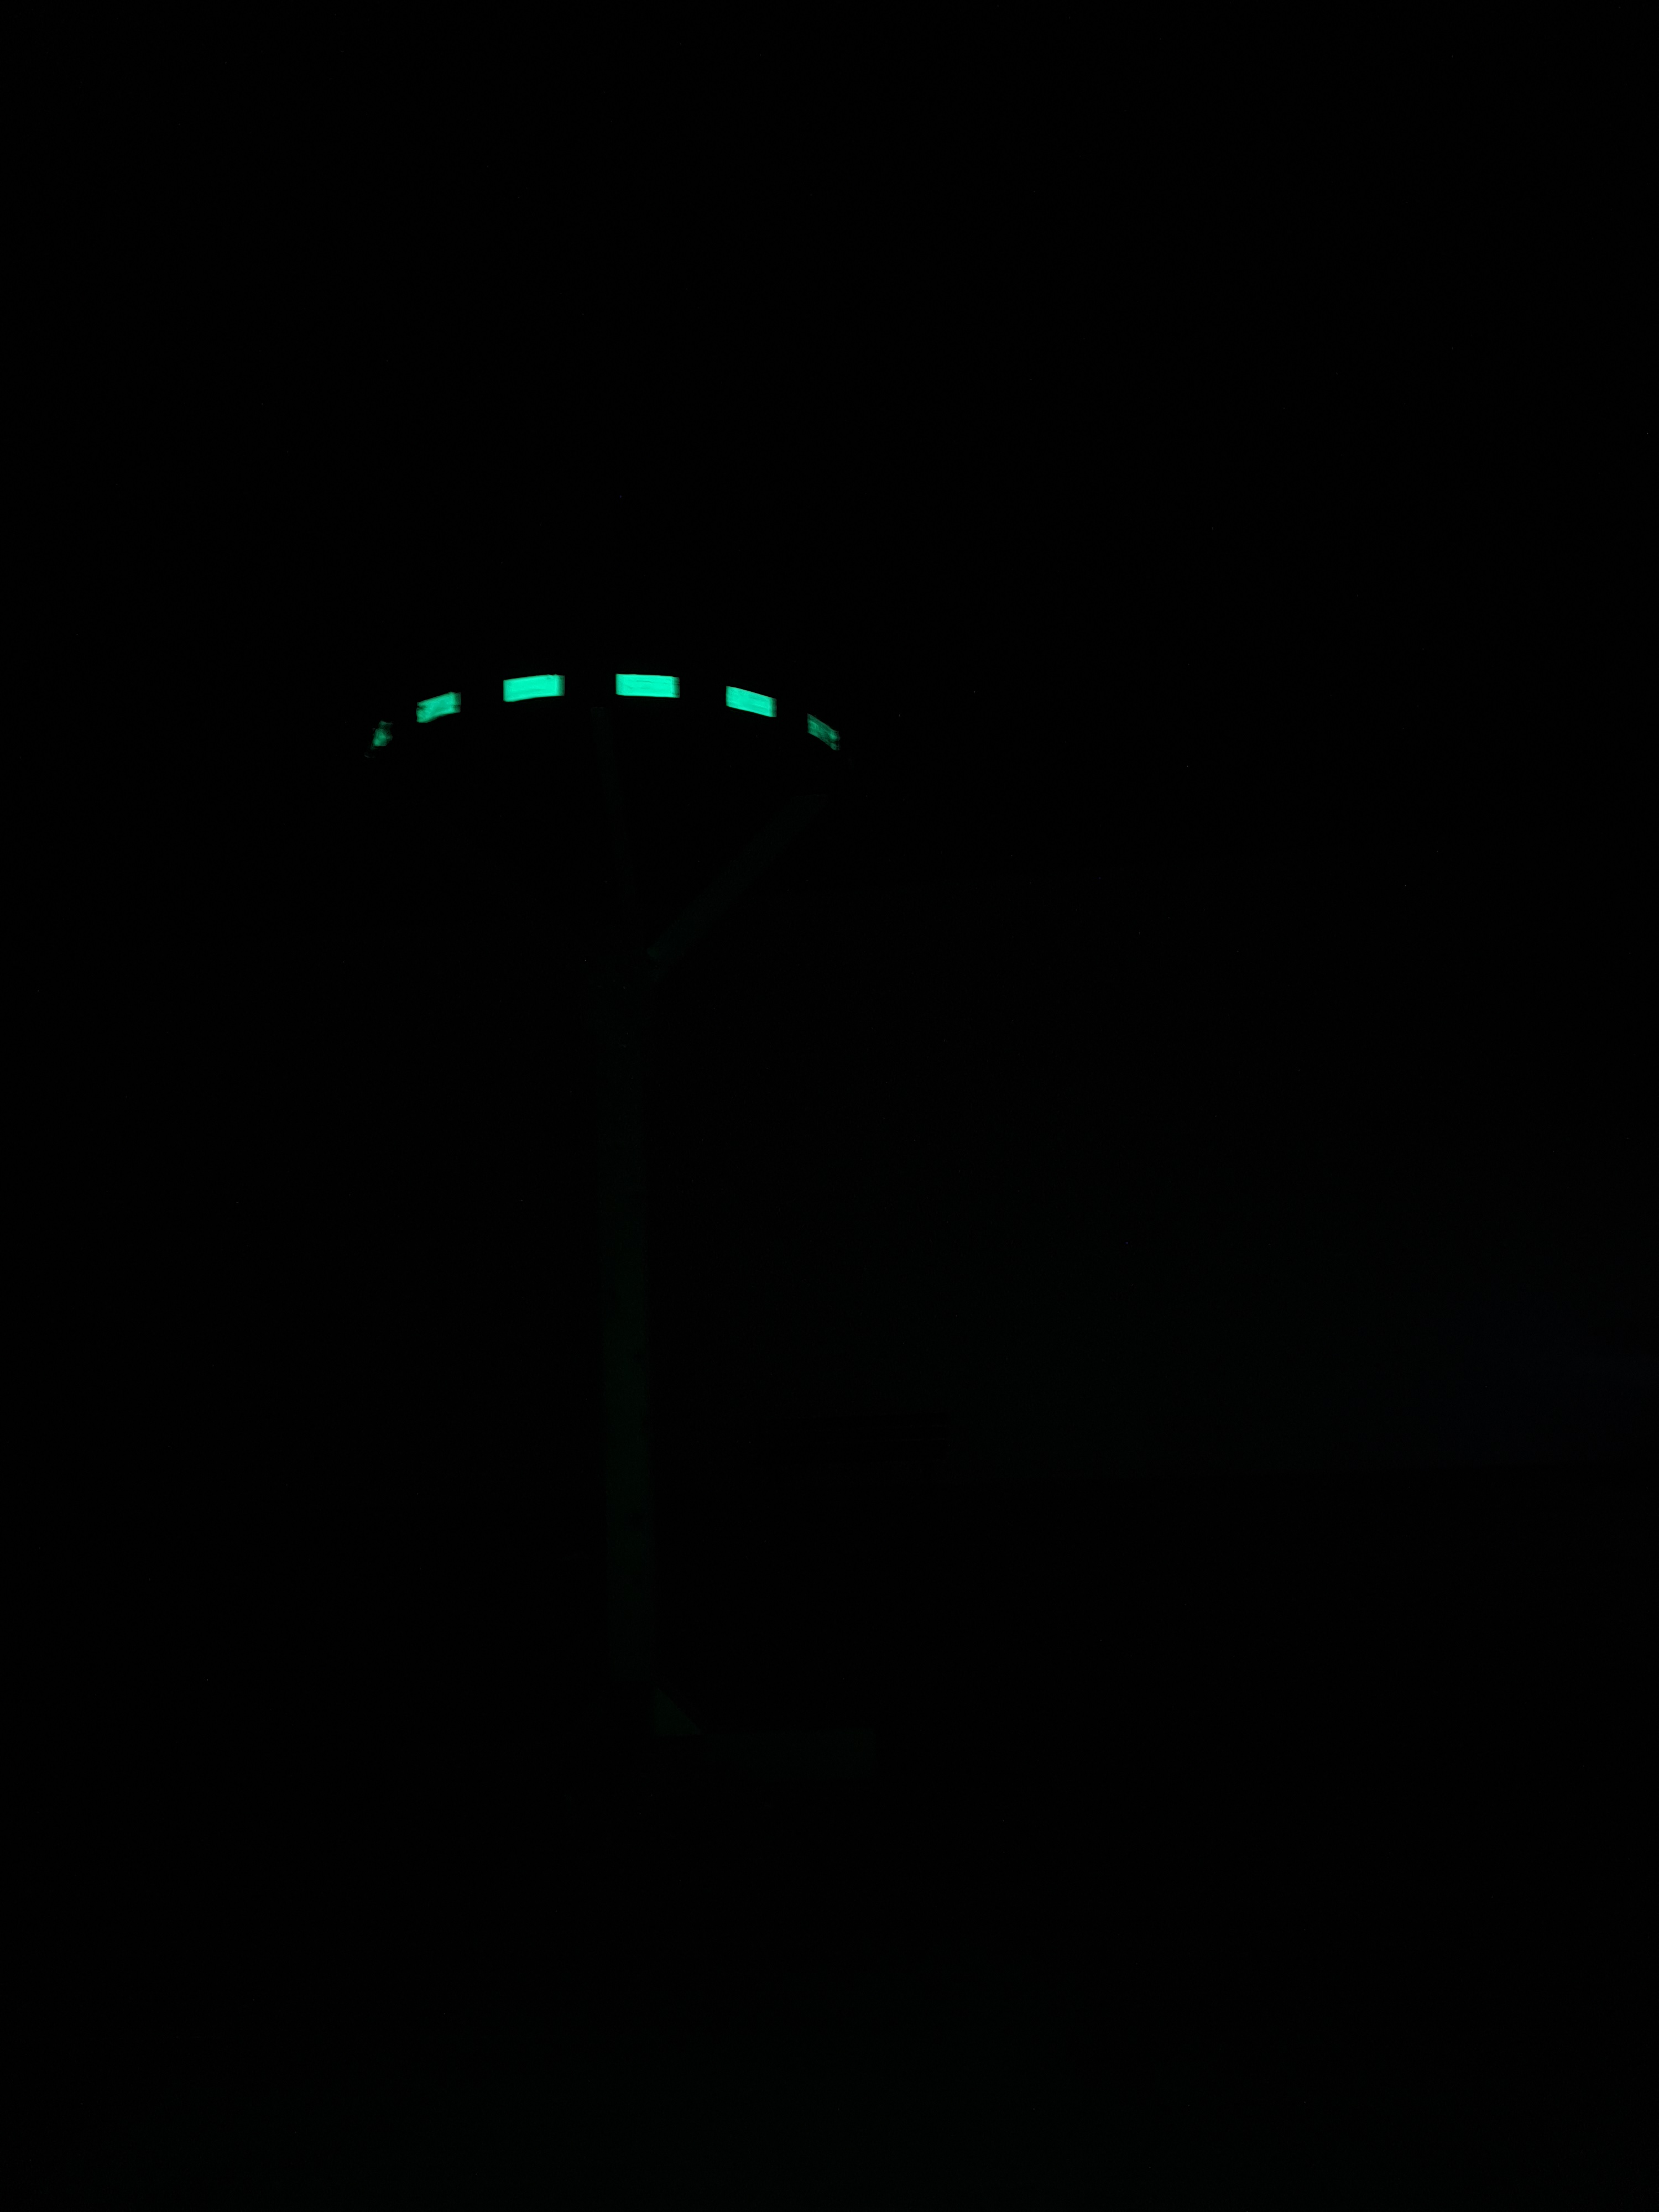hoop: (340, 662, 854, 770)
